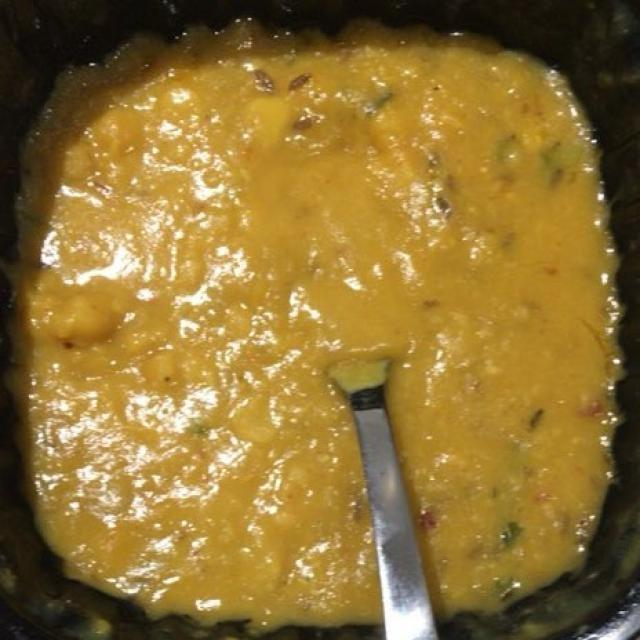soup: (9, 24, 616, 630)
